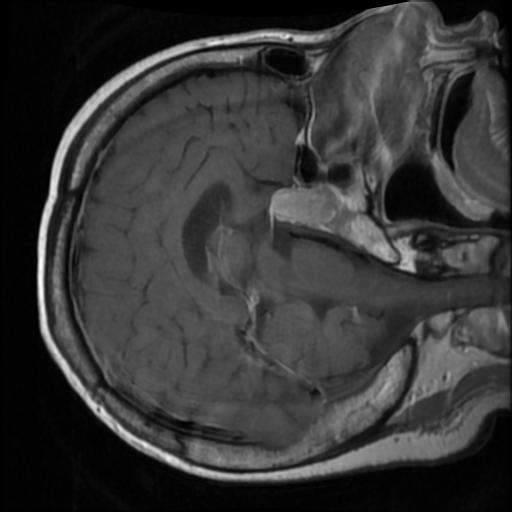pituitary tumour: (269, 185, 339, 226)
